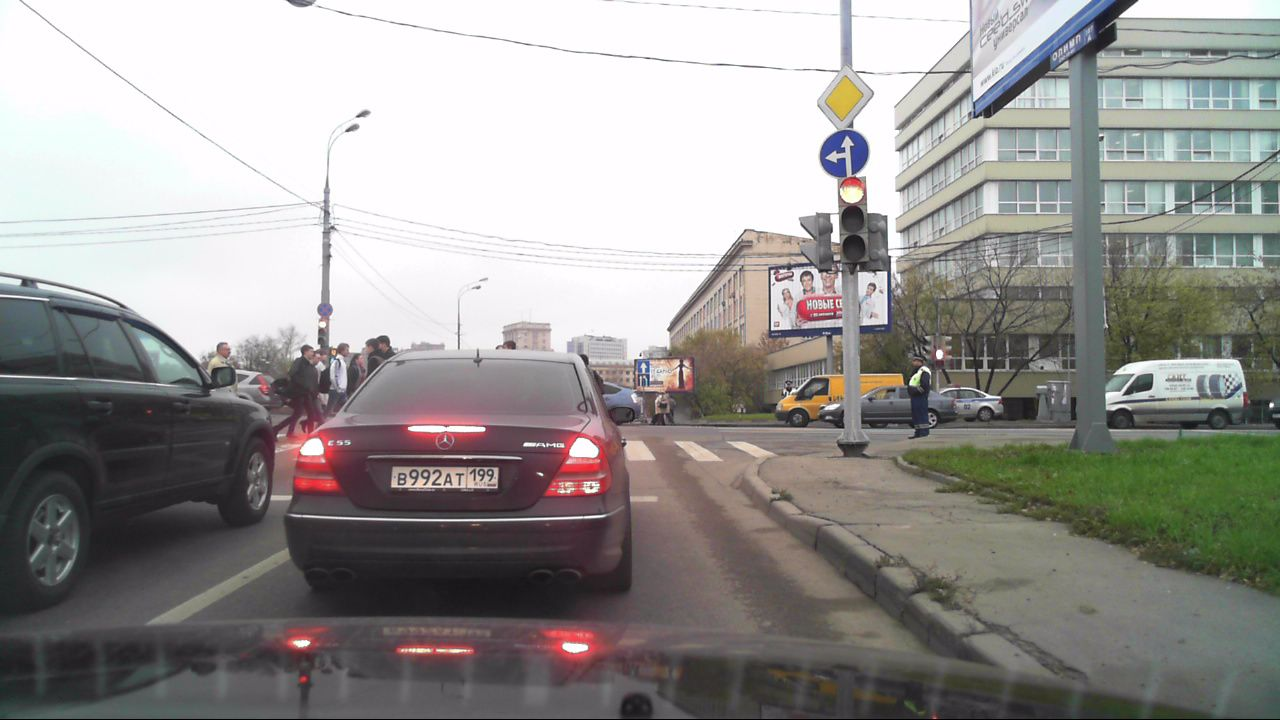No Parking: (316, 301, 334, 318)
